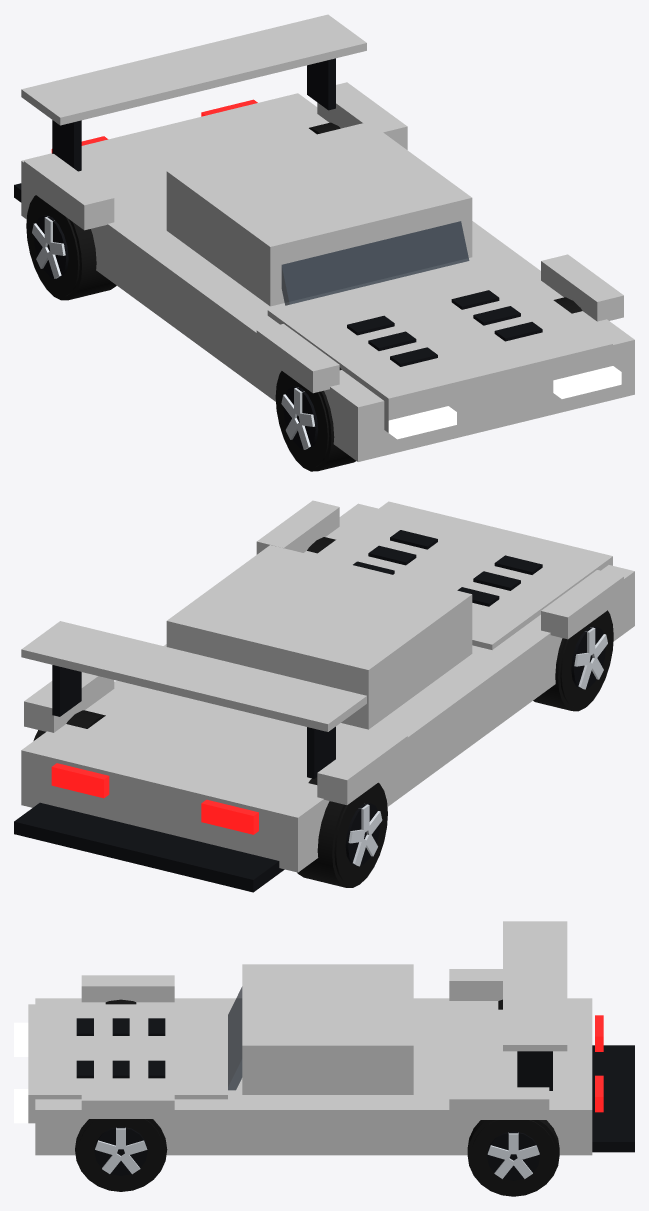
Rendered from ferocity-jackal.glb.
3 renders of one model, top to bottom at view 1: azimuth 30°, elevation 25°; view 2: azimuth 150°, elevation 25°; view 3: azimuth 270°, elevation 25°, orthographic. The views are drawn at different scales.
Visible parts, largest first — view 1: chassis, glass, wheel-back-left, wheel-front-left; view 2: chassis, wheel-back-left, wheel-front-left; view 3: chassis, wheel-back-right, wheel-front-right, glass.
Boxes of the visible parts, bbox=[...] form: chassis: bbox=[14, 14, 634, 461]; glass: bbox=[281, 221, 469, 305]; wheel-back-left: bbox=[26, 195, 116, 300]; wheel-front-left: bbox=[275, 367, 355, 471]; chassis: bbox=[14, 500, 634, 892]; wheel-back-left: bbox=[297, 777, 387, 887]; wheel-front-left: bbox=[533, 610, 613, 711]; chassis: bbox=[14, 921, 634, 1155]; wheel-back-right: bbox=[467, 1120, 559, 1196]; wheel-front-right: bbox=[75, 1119, 167, 1191]; glass: bbox=[228, 987, 242, 1090].
Bounding box in the file's own units: 2.16 × 1.18 × 4.35.
